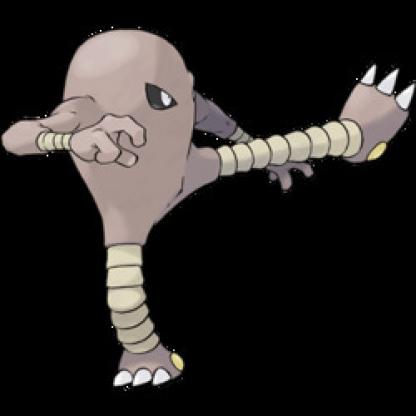Hitmonlee: (1, 16, 416, 394)
